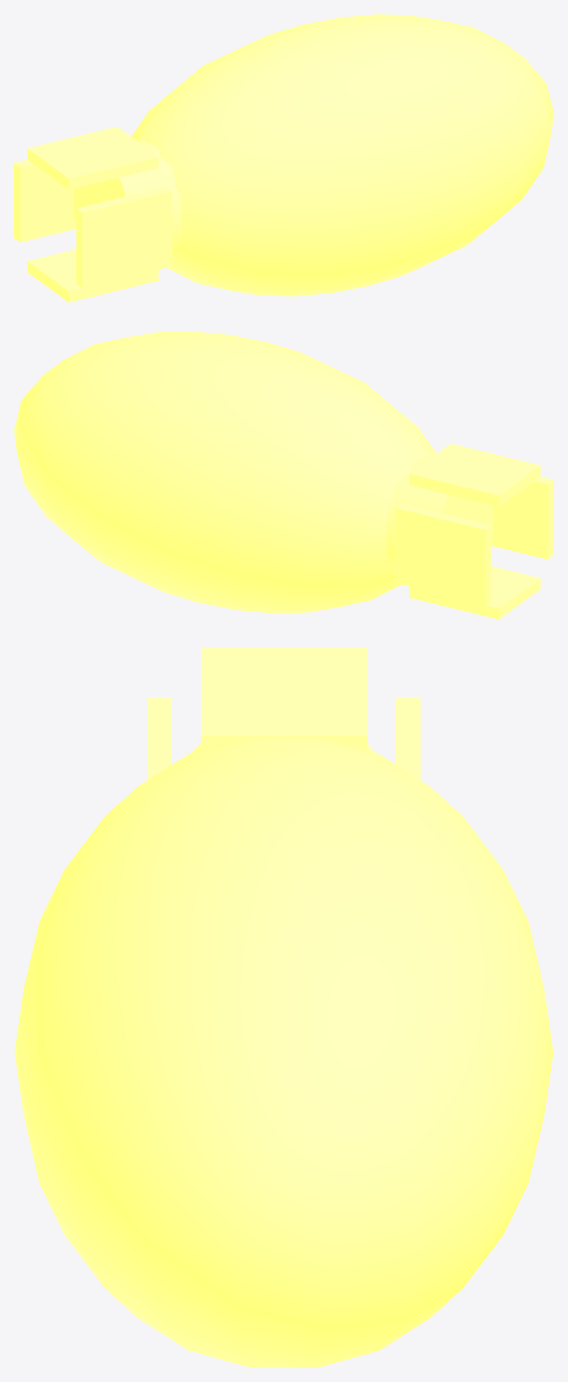
The model's file is pu_nuke.gltf.
3 renders of one model, top to bottom at view 1: azimuth 30°, elevation 25°; view 2: azimuth 150°, elevation 25°; view 3: azimuth 270°, elevation 25°, orthographic. The views are drawn at different scales.
Visible parts, largest first — view 1: PU_nuke; view 2: PU_nuke; view 3: PU_nuke.
Boxes of the visible parts, x1=… form: PU_nuke: x1=14, y1=14, x2=553, y2=302; PU_nuke: x1=14, y1=331, x2=553, y2=619; PU_nuke: x1=14, y1=648, x2=553, y2=1367.
Size of the model in its own units: 0.5504 by 0.26 by 0.26.
